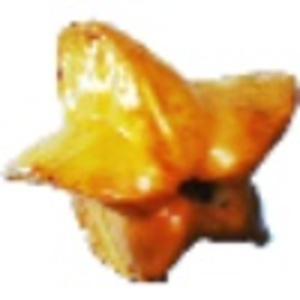carambola: (2, 18, 300, 287)
